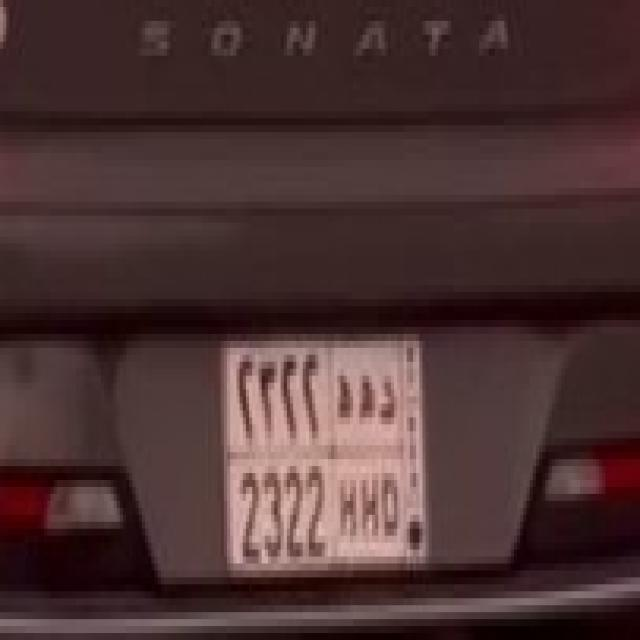Car-plate: (194, 262, 447, 608)
